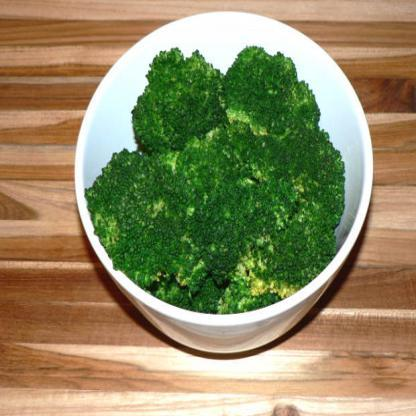broccoli: (85, 44, 346, 314)
